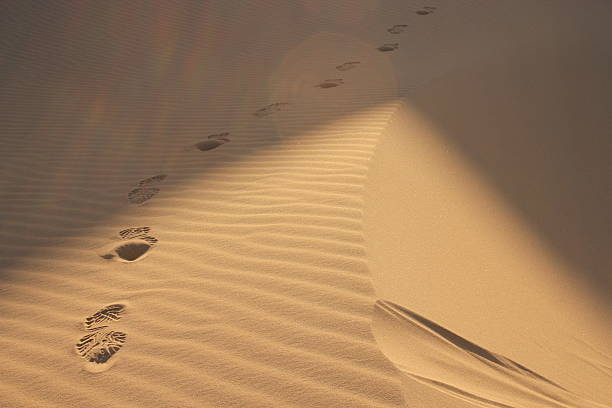human_footprint: (75, 303, 126, 372), (99, 227, 157, 262), (127, 174, 166, 204), (189, 132, 230, 150), (254, 102, 288, 116), (315, 78, 343, 88), (335, 61, 359, 70), (387, 24, 407, 33), (377, 43, 398, 51), (415, 6, 435, 14)
